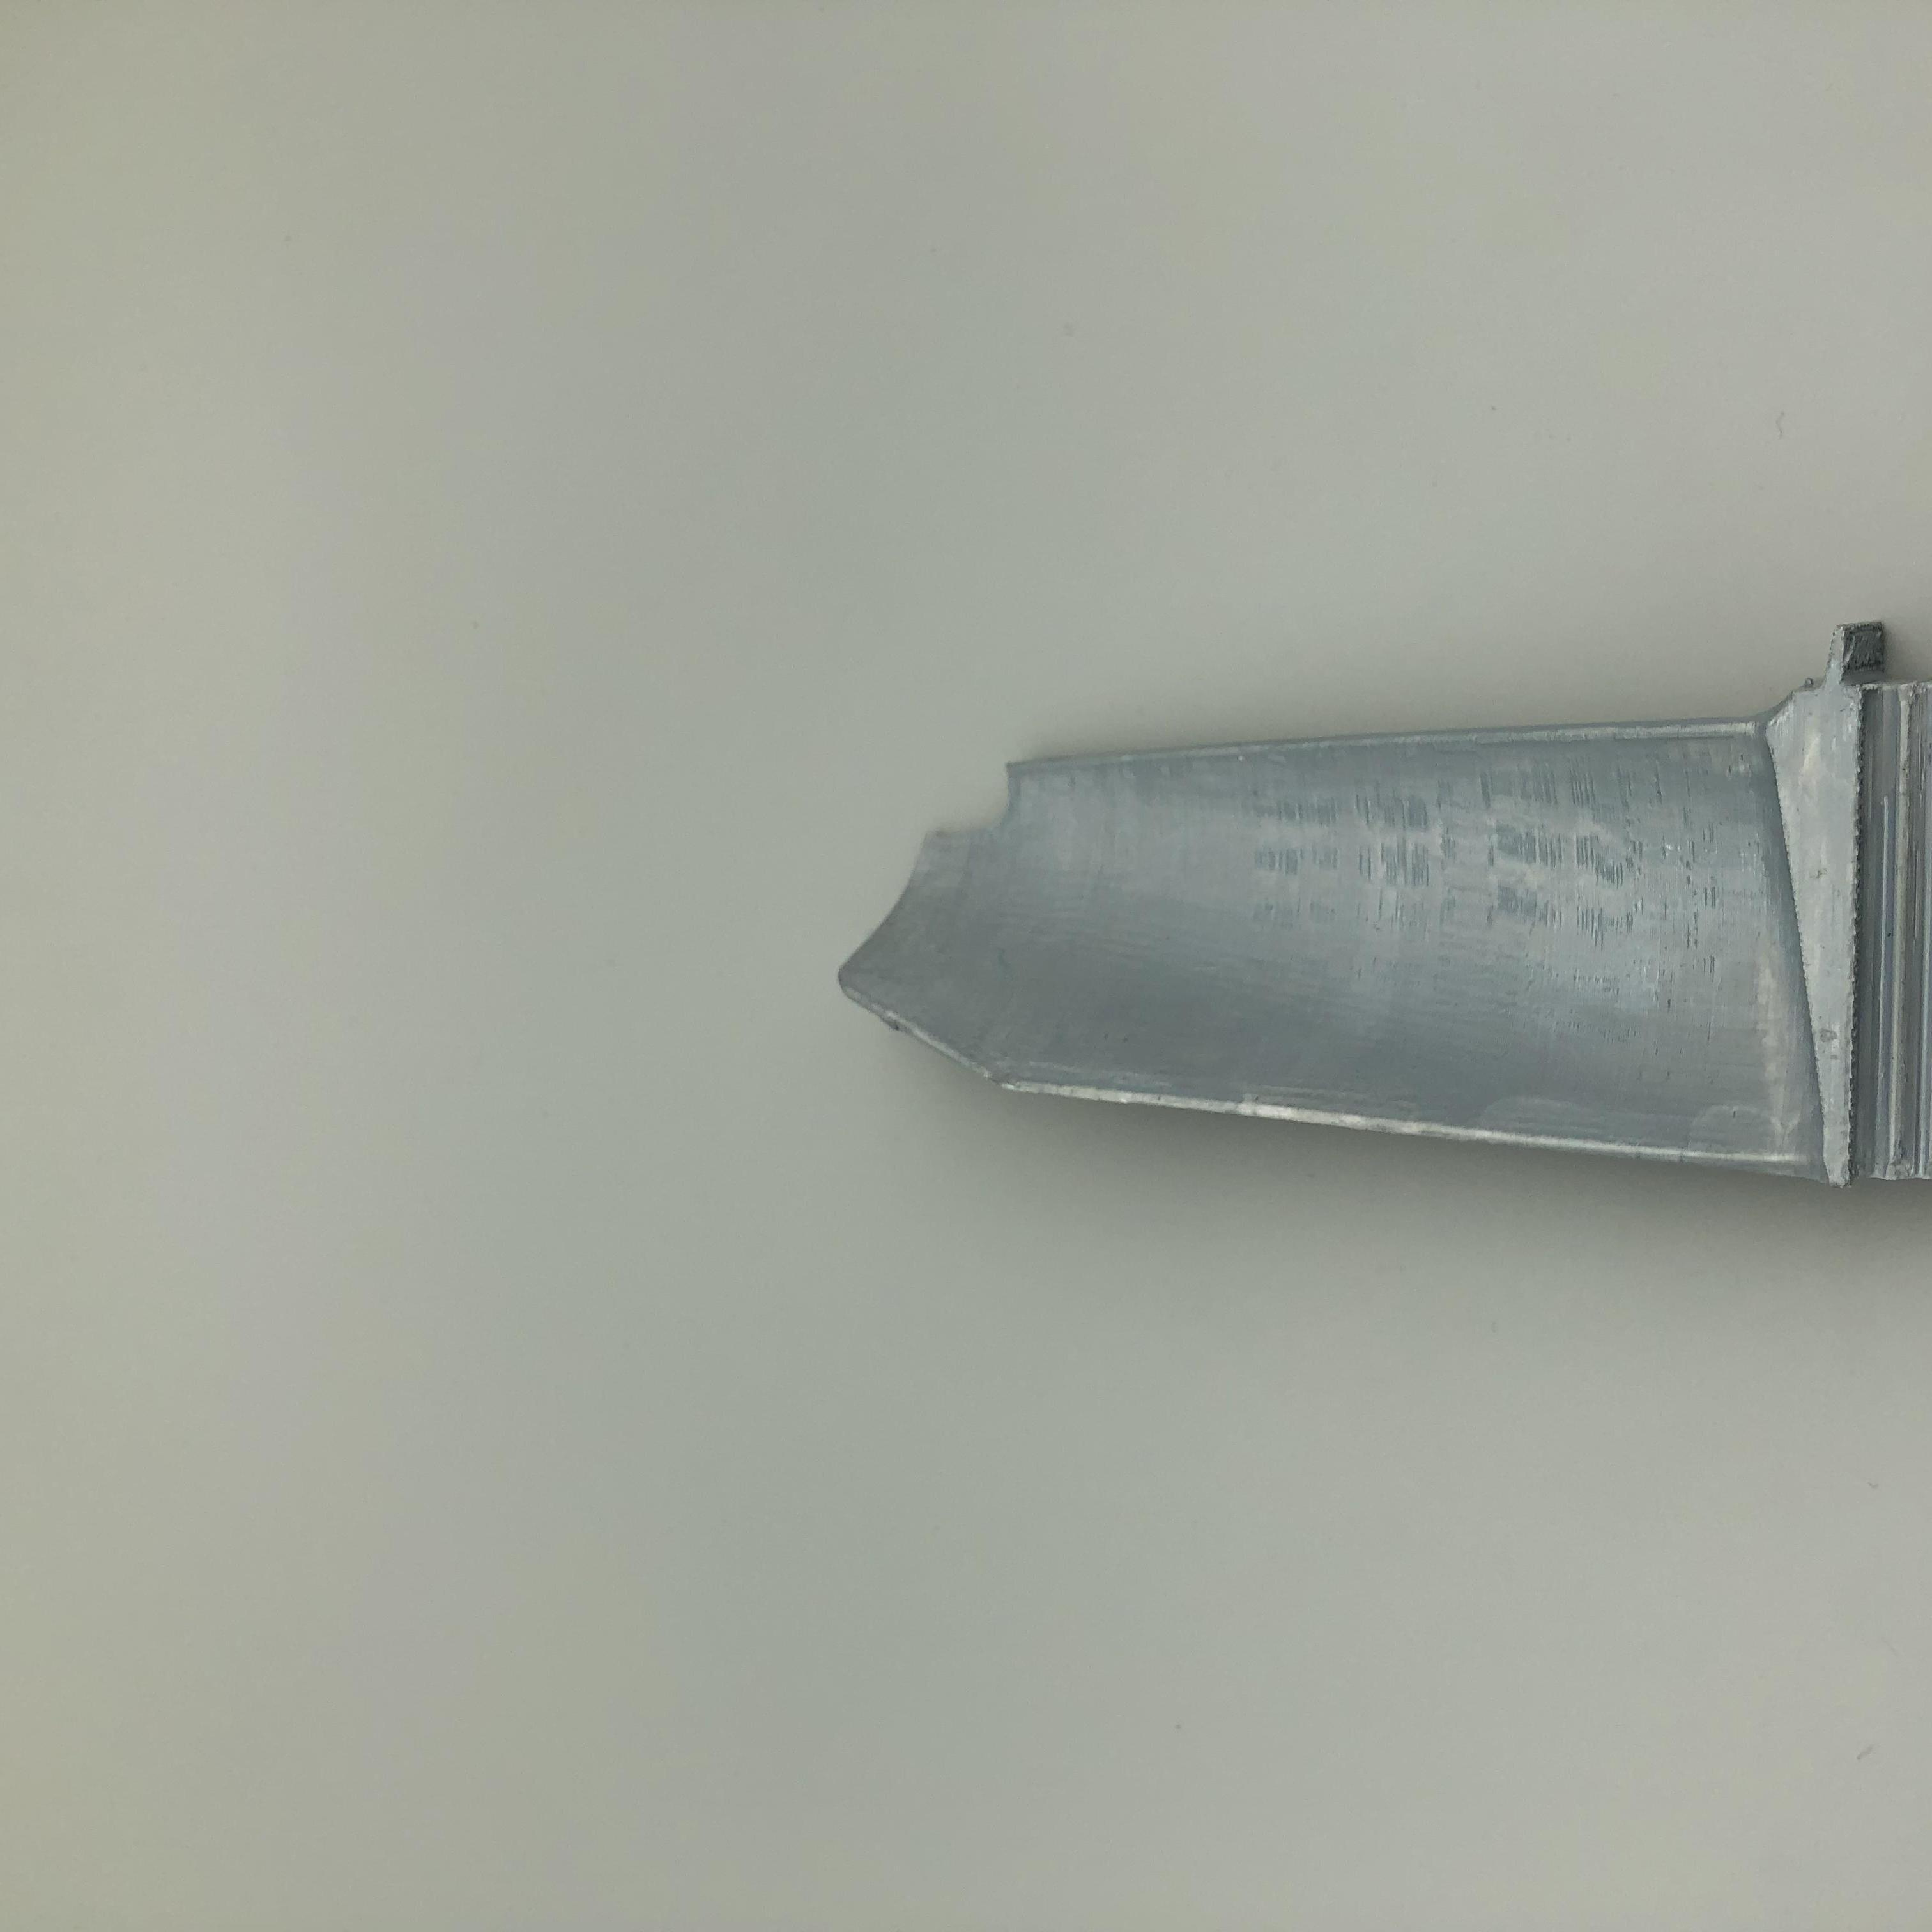fracture: (916, 750, 1072, 858)
